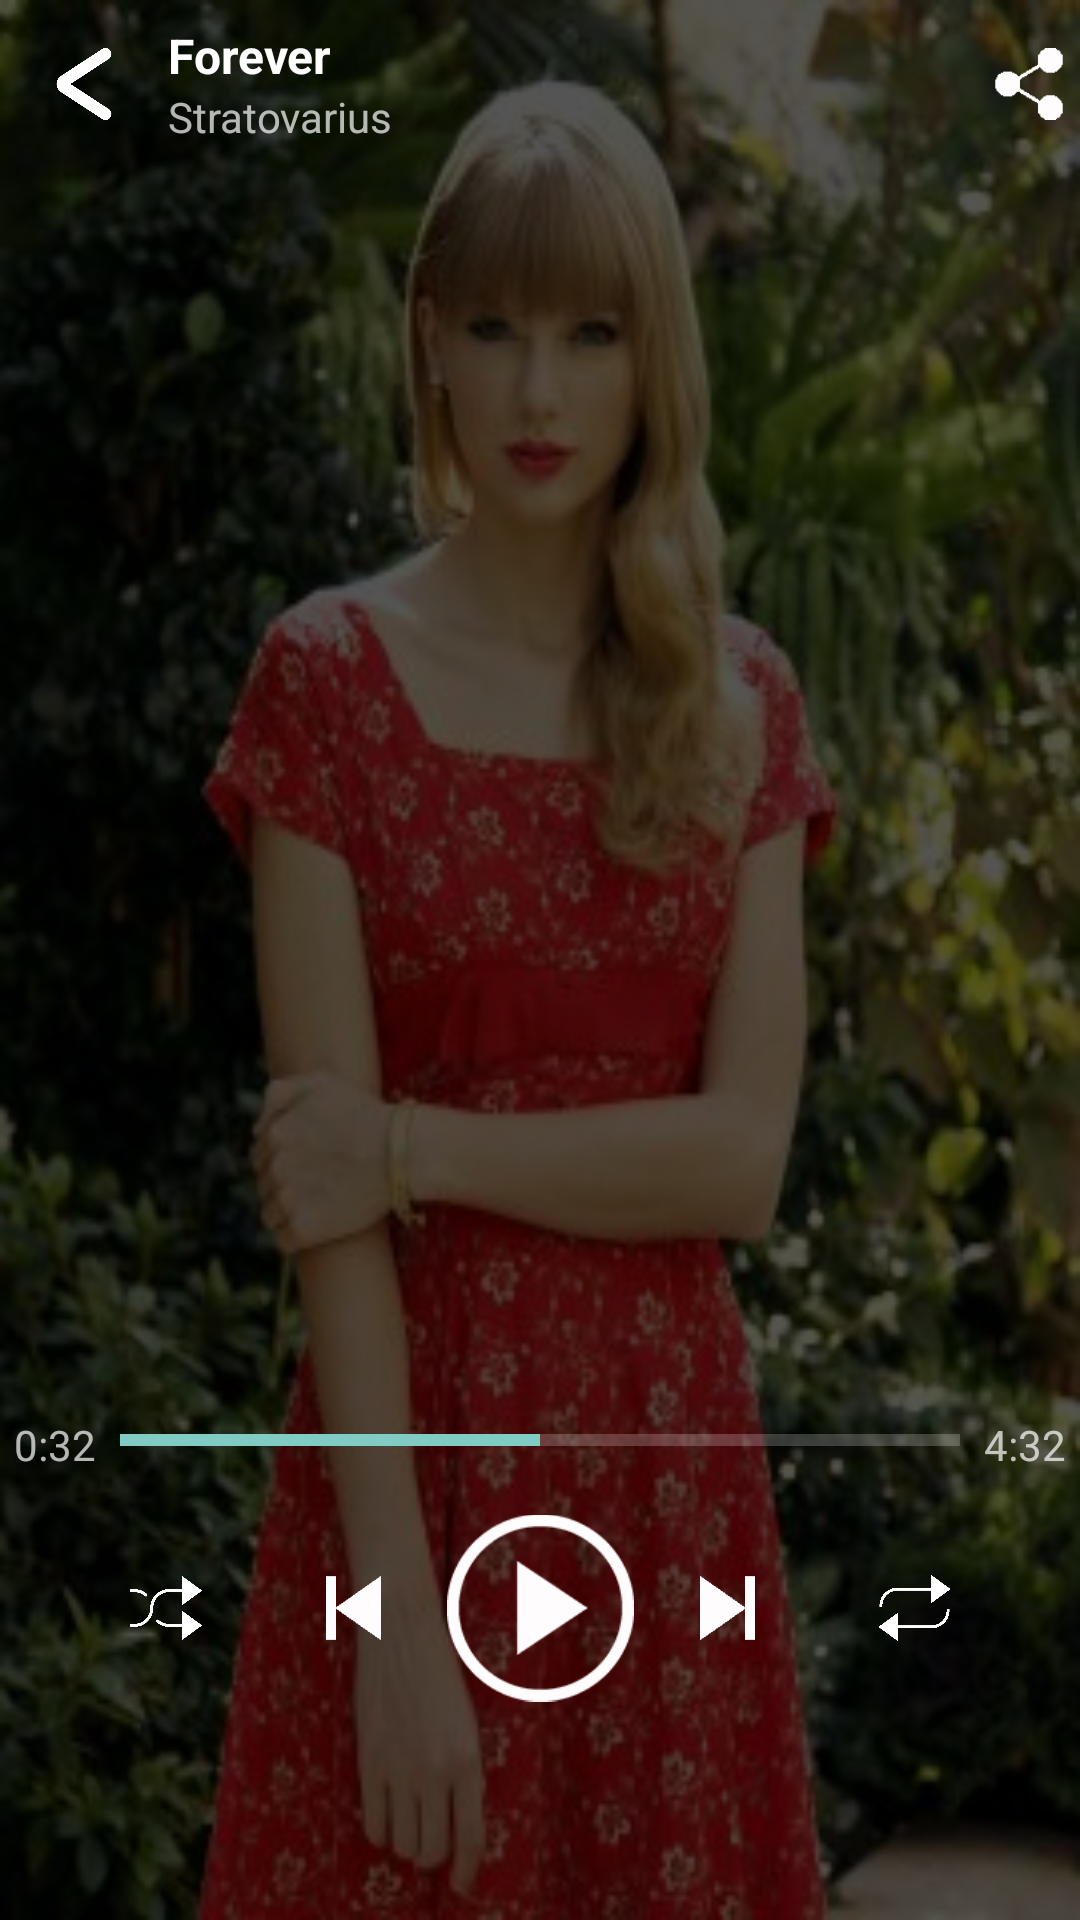

Icons on this 1080 x 1920 Android screen, each with its box as (x1, y1, x2, y2):
back: (56, 48, 116, 120)
play: (447, 1512, 634, 1704)
share: (993, 48, 1065, 120)
